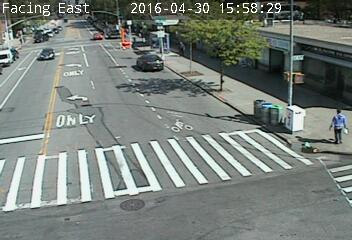neg: (113, 45, 130, 68), (231, 48, 248, 70), (67, 32, 83, 54), (122, 107, 137, 128), (171, 93, 186, 113), (76, 66, 89, 85), (27, 78, 40, 96), (201, 65, 213, 80), (154, 54, 165, 68), (282, 28, 288, 36)
pos: (322, 103, 351, 145), (174, 39, 189, 58)
